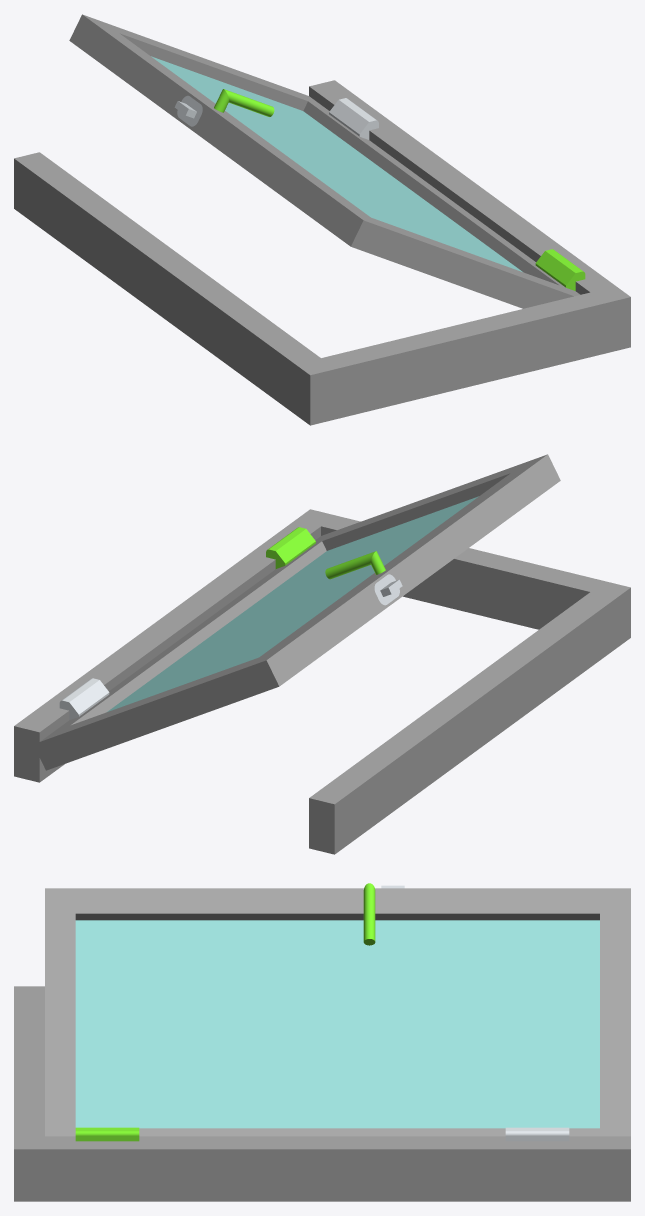
Rendered from tech_door_highlight.gltf.
3 views of the same model, one above another, from view 1: azimuth 30°, elevation 25°; view 2: azimuth 150°, elevation 25°; view 3: azimuth 270°, elevation 25° (orthographic). The views are drawn at different scales.
Visible parts, largest first — view 1: Part 12, Part 13, Part 14, Part 19, Part 18, Part 15; view 2: Part 12, Part 13, Part 14, Part 18, Part 19, Part 15; view 3: Part 14, Part 12, Part 13, Part 19, Part 18, Part 15.
Part boxes in pixels (<box>): Part 12: <box>14,80,630,425</box>; Part 13: <box>69,14,580,308</box>; Part 14: <box>151,56,522,271</box>; Part 19: <box>329,98,378,139</box>; Part 18: <box>535,249,585,290</box>; Part 15: <box>214,89,274,116</box>; Part 12: <box>14,509,630,854</box>; Part 13: <box>33,454,560,770</box>; Part 14: <box>107,496,478,711</box>; Part 18: <box>266,527,315,568</box>; Part 19: <box>59,678,109,719</box>; Part 15: <box>325,551,385,579</box>; Part 14: <box>75,920,599,1128</box>; Part 12: <box>14,986,630,1201</box>; Part 13: <box>45,888,630,1136</box>; Part 19: <box>505,1127,569,1141</box>; Part 18: <box>75,1127,139,1141</box>; Part 15: <box>363,883,375,945</box>.
Size of the model in its own units: 0.01 by 0.00568 by 0.016.
